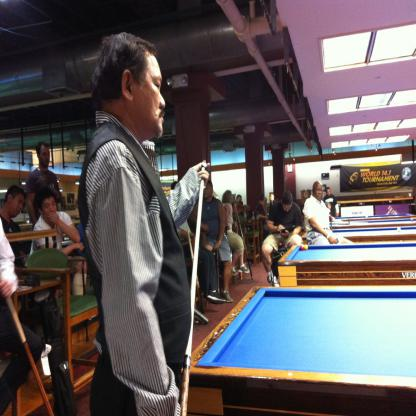Ball: (299, 244, 305, 252), (305, 243, 309, 252)
